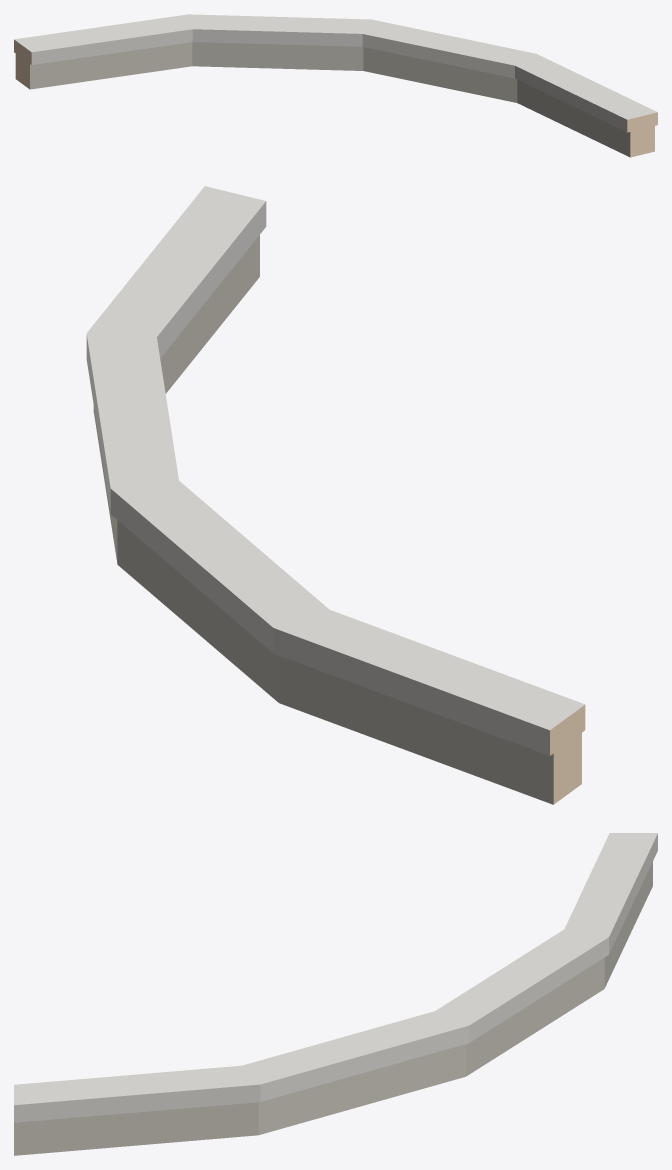
Rendered from Tiered_Retaining_Wall_Flat_Curve_4x4_Top.glb.
3 views of the same model, one above another, from view 1: azimuth 30°, elevation 25°; view 2: azimuth 150°, elevation 25°; view 3: azimuth 270°, elevation 25° (orthographic). The views are drawn at different scales.
Visible parts, largest first — view 1: Tiered_Retaining_Wall_Flat_Curve_4x4_Top; view 2: Tiered_Retaining_Wall_Flat_Curve_4x4_Top; view 3: Tiered_Retaining_Wall_Flat_Curve_4x4_Top.
Part boxes in pixels (x1=…): Tiered_Retaining_Wall_Flat_Curve_4x4_Top: x1=14, y1=14, x2=657, y2=157; Tiered_Retaining_Wall_Flat_Curve_4x4_Top: x1=86, y1=186, x2=585, y2=804; Tiered_Retaining_Wall_Flat_Curve_4x4_Top: x1=14, y1=833, x2=657, y2=1155.
Size of the model in its own units: 416 by 37.5 by 416.
